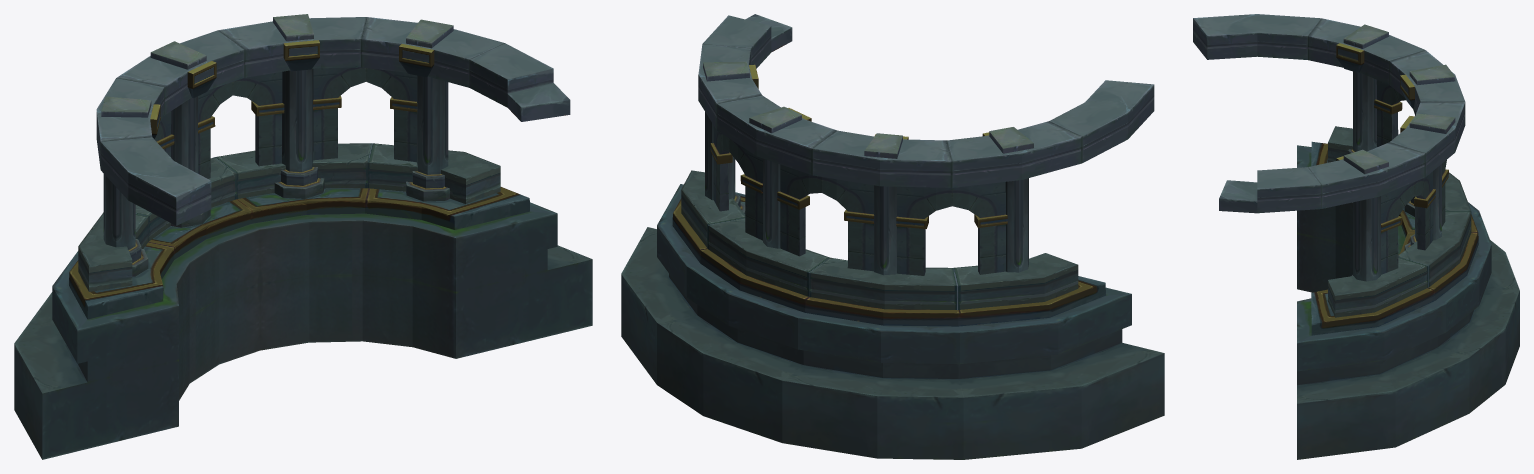
The model's file is zhucheng_fuhuoquan_weilan.FBX.
The picture shows the model from 3 angles, left to right: view 1: azimuth 30°, elevation 25°; view 2: azimuth 150°, elevation 25°; view 3: azimuth 270°, elevation 25°; orthographic projection. The views are drawn at different scales.
Parts seen in each view (by area): view 1: zhucheng_fuhuoquan_weilan; view 2: zhucheng_fuhuoquan_weilan; view 3: zhucheng_fuhuoquan_weilan.
Boxes of the visible parts, x1,y1,x2,y2 form: zhucheng_fuhuoquan_weilan: [14, 14, 592, 459]; zhucheng_fuhuoquan_weilan: [621, 14, 1164, 459]; zhucheng_fuhuoquan_weilan: [1193, 14, 1519, 459].
Size of the model in its own units: 3088 by 1582 by 1878.
